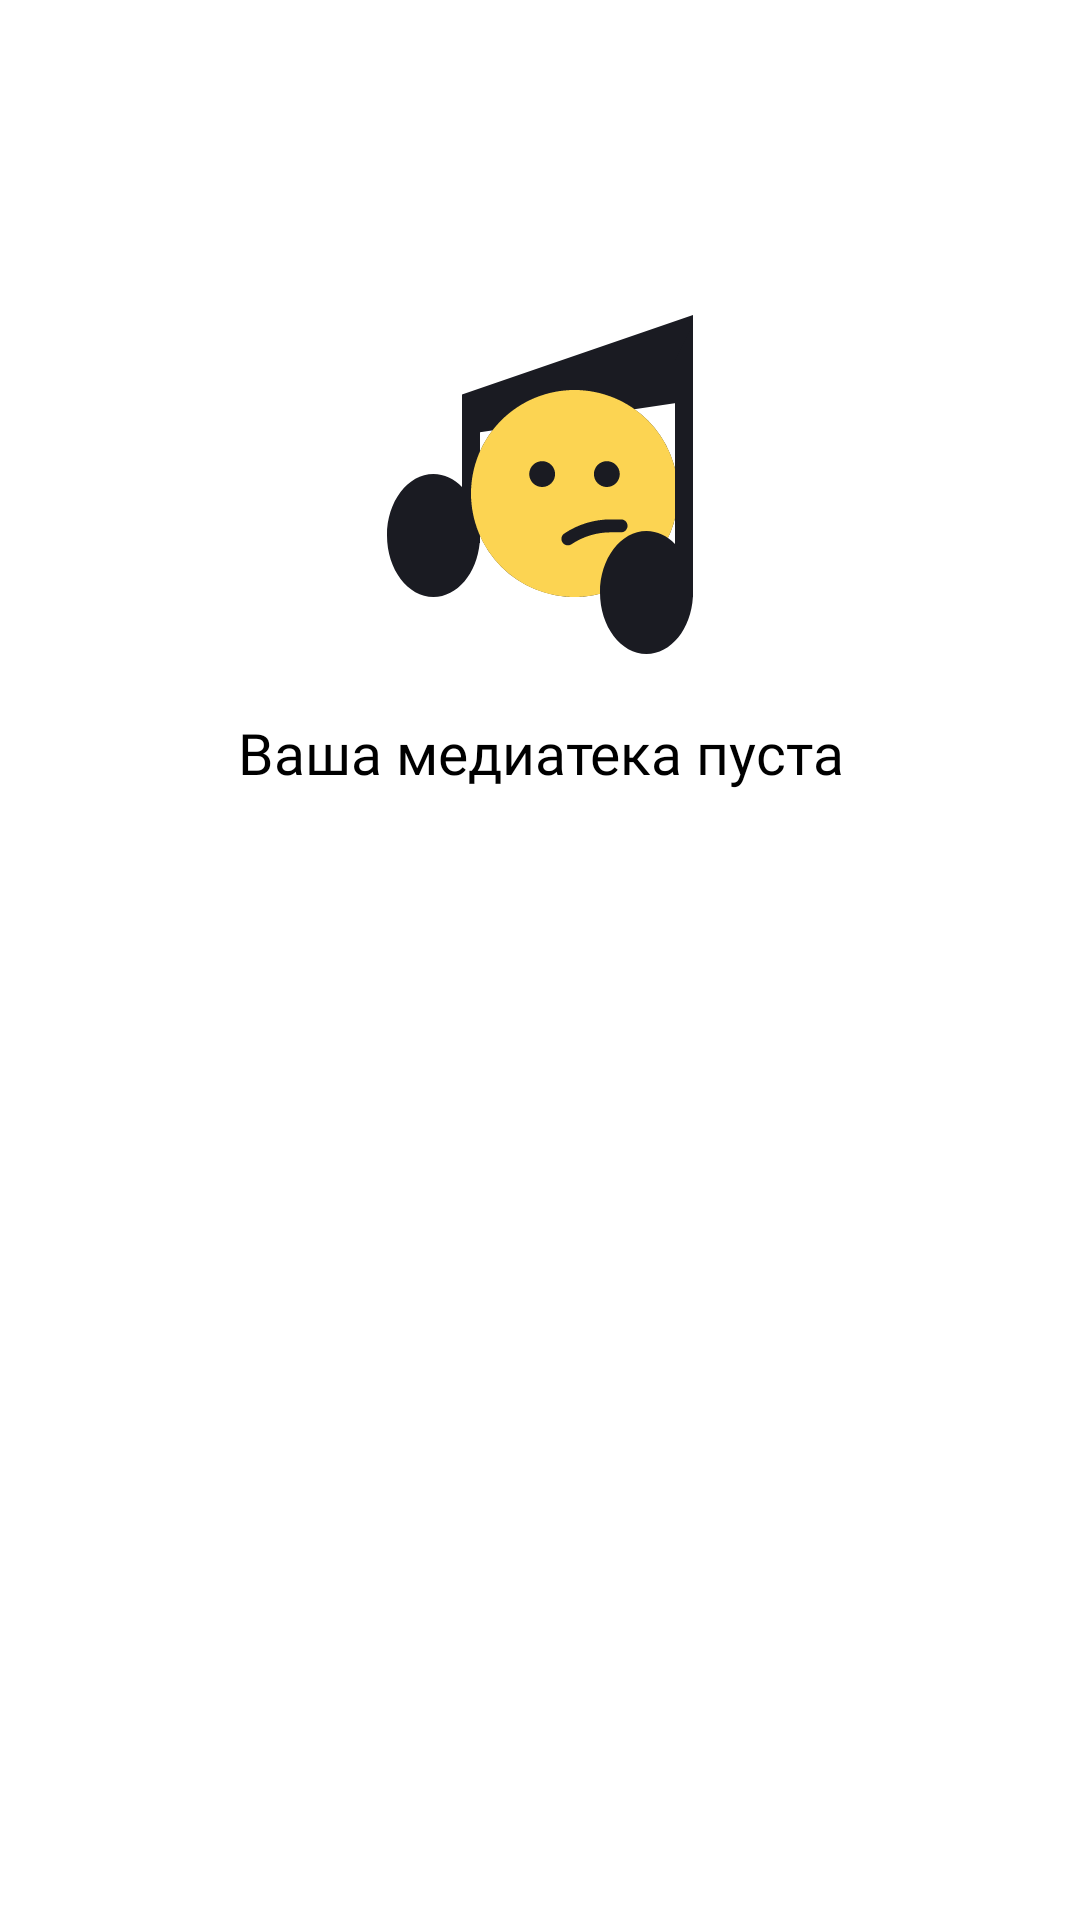

Screen size 1080*1920. Icon name, then its center in pixels as (x,y):
nothing found error: (540,484)
